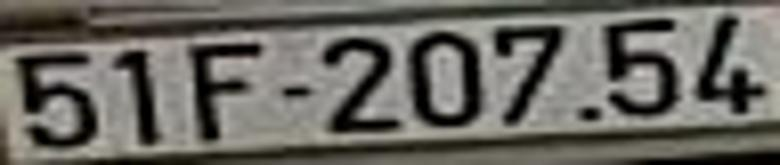-: (281, 85, 312, 98)
.: (574, 102, 601, 122)
0: (406, 27, 480, 127)
1: (113, 48, 161, 143)
2: (320, 37, 399, 133)
4: (696, 13, 764, 112)
5: (13, 51, 98, 149), (605, 19, 677, 114)
7: (492, 27, 562, 124)
F: (186, 43, 264, 140)
